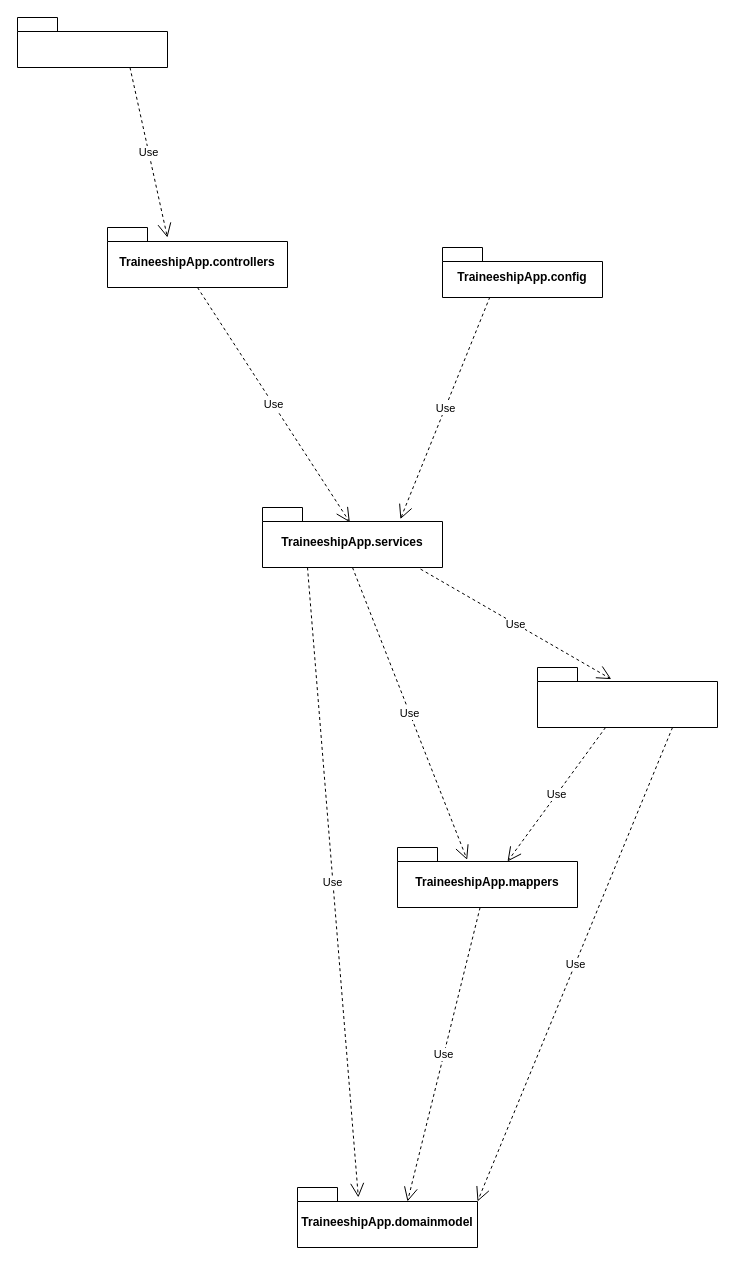
Image size: 735x1265. Some labels were removed from this diagram. The centre of each missing label's shape, as x and y in pixels:
"resources.templates" goes at [92,42].
"TraineeshipApp.assignments" goes at [627,697].
